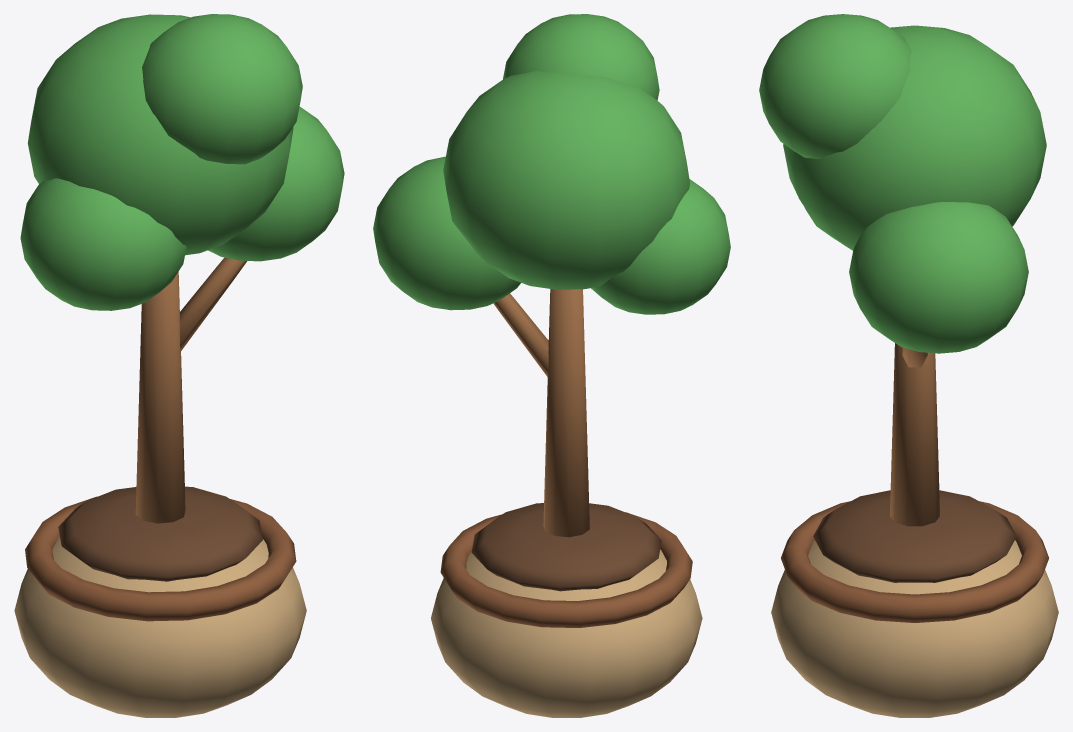
File: seed-sapling.glb
3 renders of one model, left to right at view 1: azimuth 30°, elevation 25°; view 2: azimuth 150°, elevation 25°; view 3: azimuth 270°, elevation 25°, orthographic. The views are drawn at different scales.
Visible parts, largest first — view 1: seed; view 2: seed; view 3: seed.
Part boxes in pixels (x1,y1,x2,y2): seed: (14, 14, 344, 717); seed: (373, 14, 730, 717); seed: (759, 14, 1058, 717).
Bounding box in the file's own units: 0.315 × 0.633 × 0.25.
